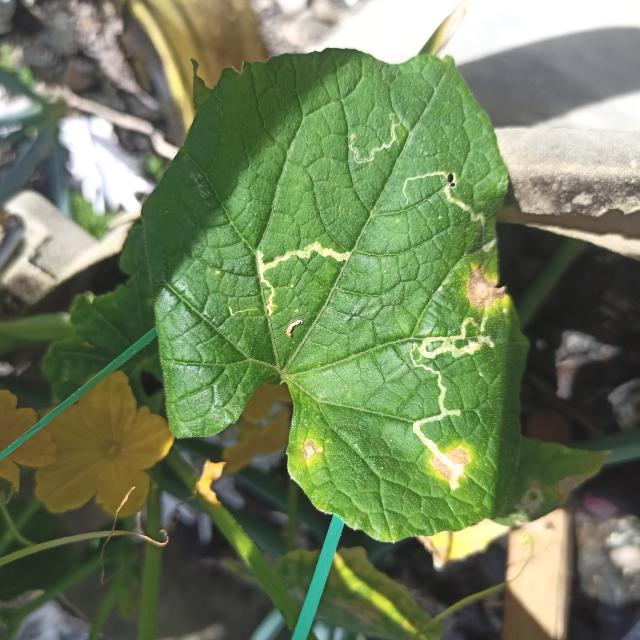disease_cucumber: (463, 270, 504, 312), (428, 445, 469, 482), (300, 438, 322, 462)
